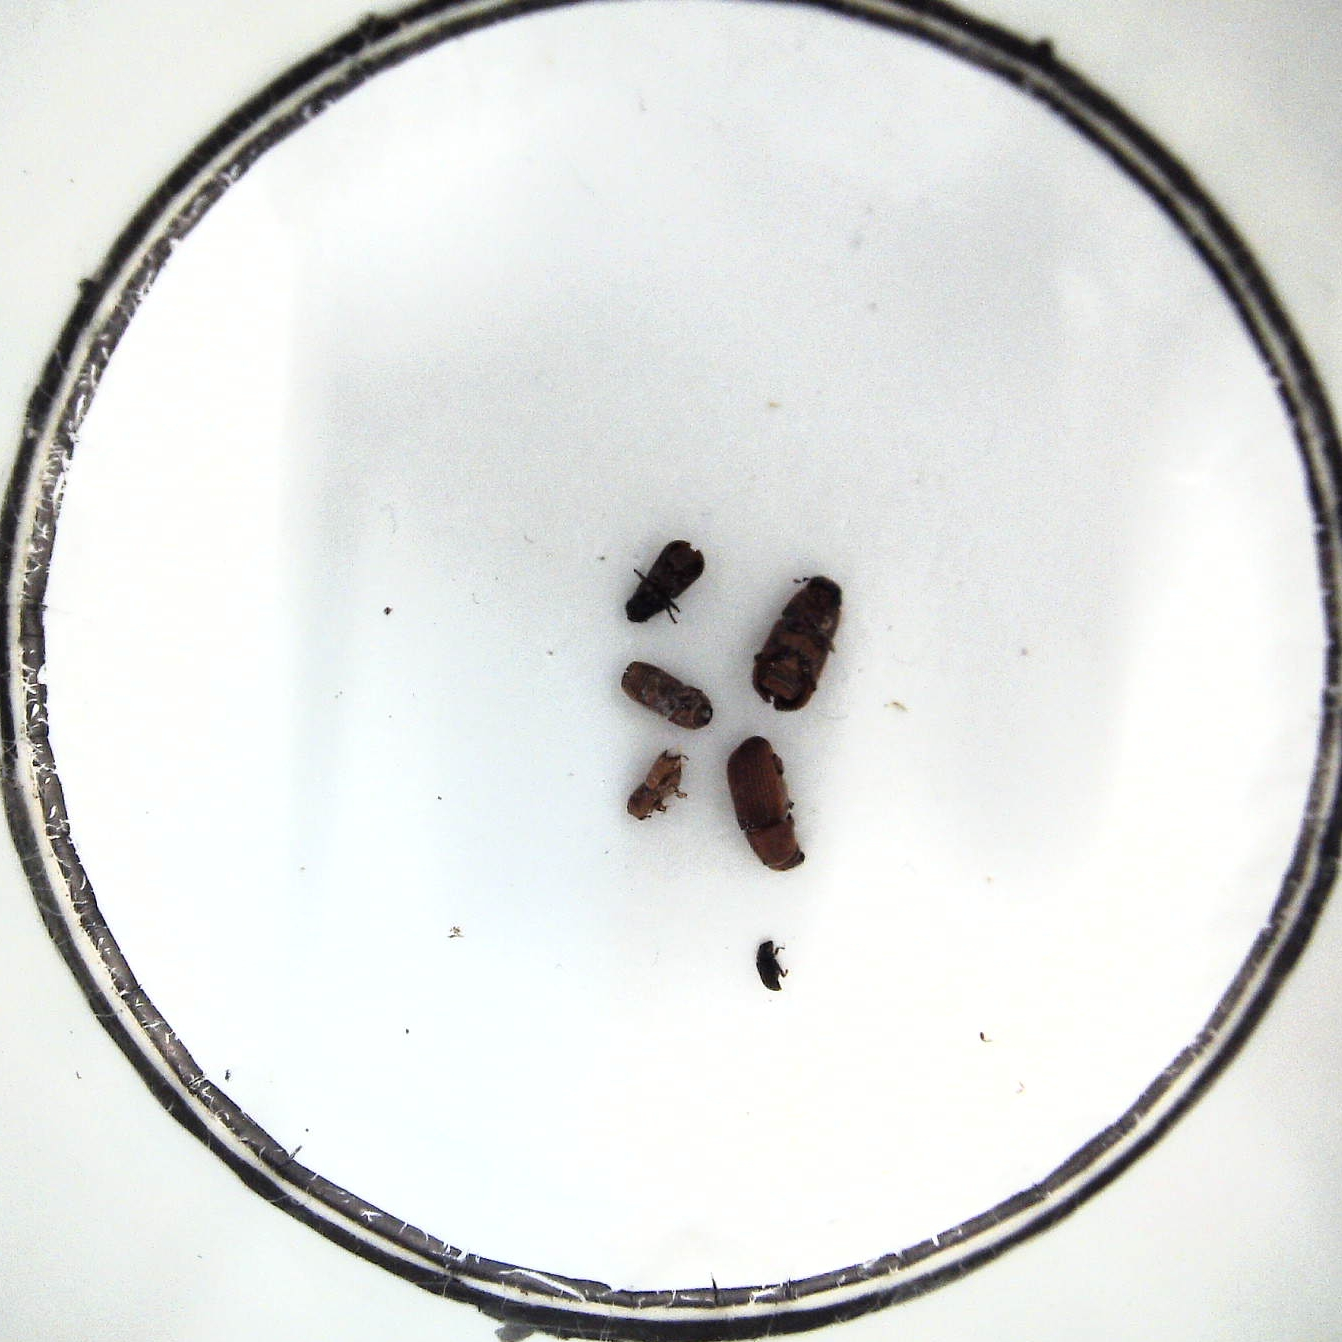Leconte: (750, 576, 846, 710), (728, 736, 810, 873)
Linnaeus: (622, 659, 716, 729)
acuminatus: (624, 750, 685, 820)
armandi: (623, 540, 710, 626)
coleoptera: (756, 938, 790, 994)
